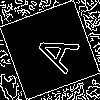A: (25, 25, 80, 75)
